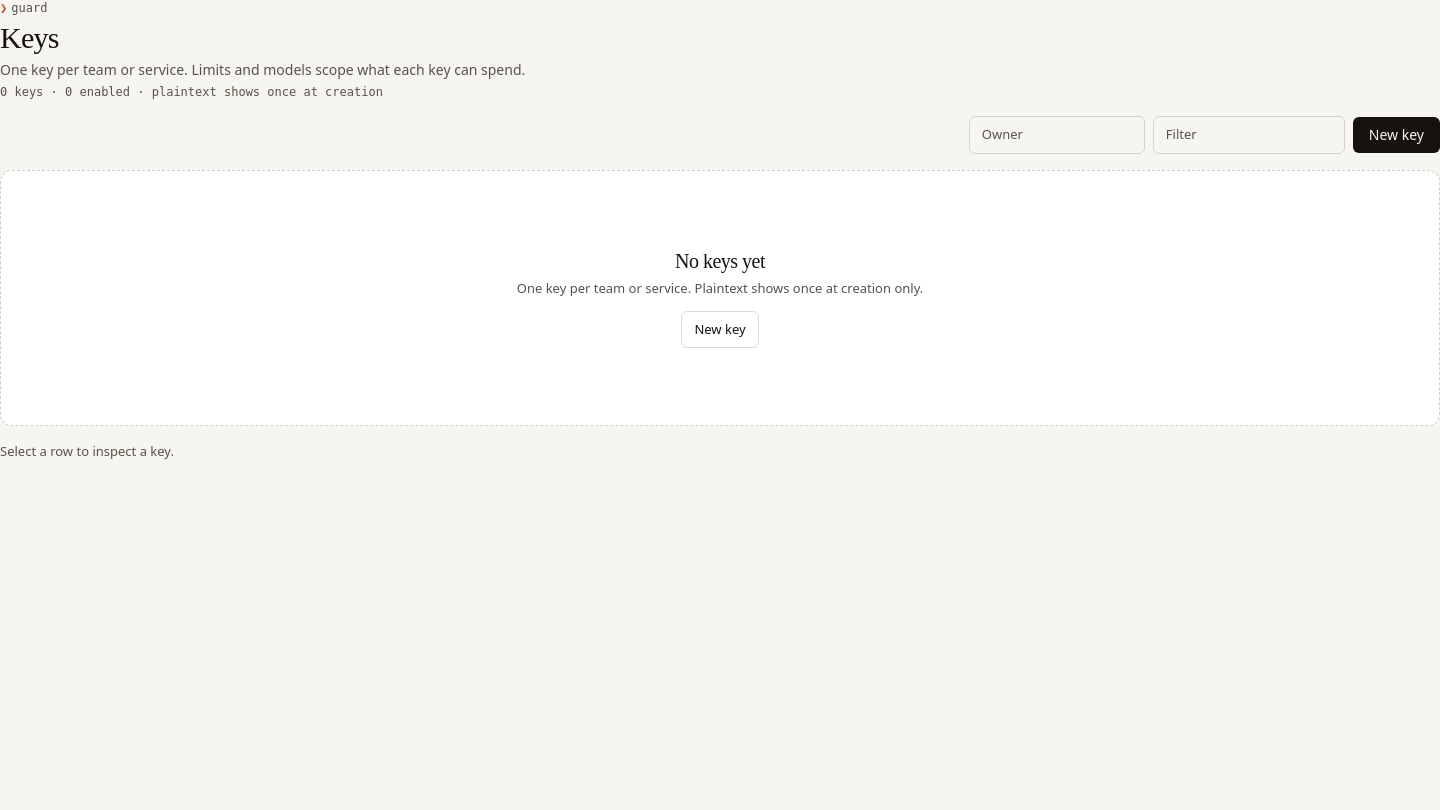
KeysPage › rejects a non-UUID owner account before submitting
The image size is (1440, 810).
Click the 1st button "New key".
click(1396, 135)  # box top-left (1353, 117), bottom-right (1439, 153)
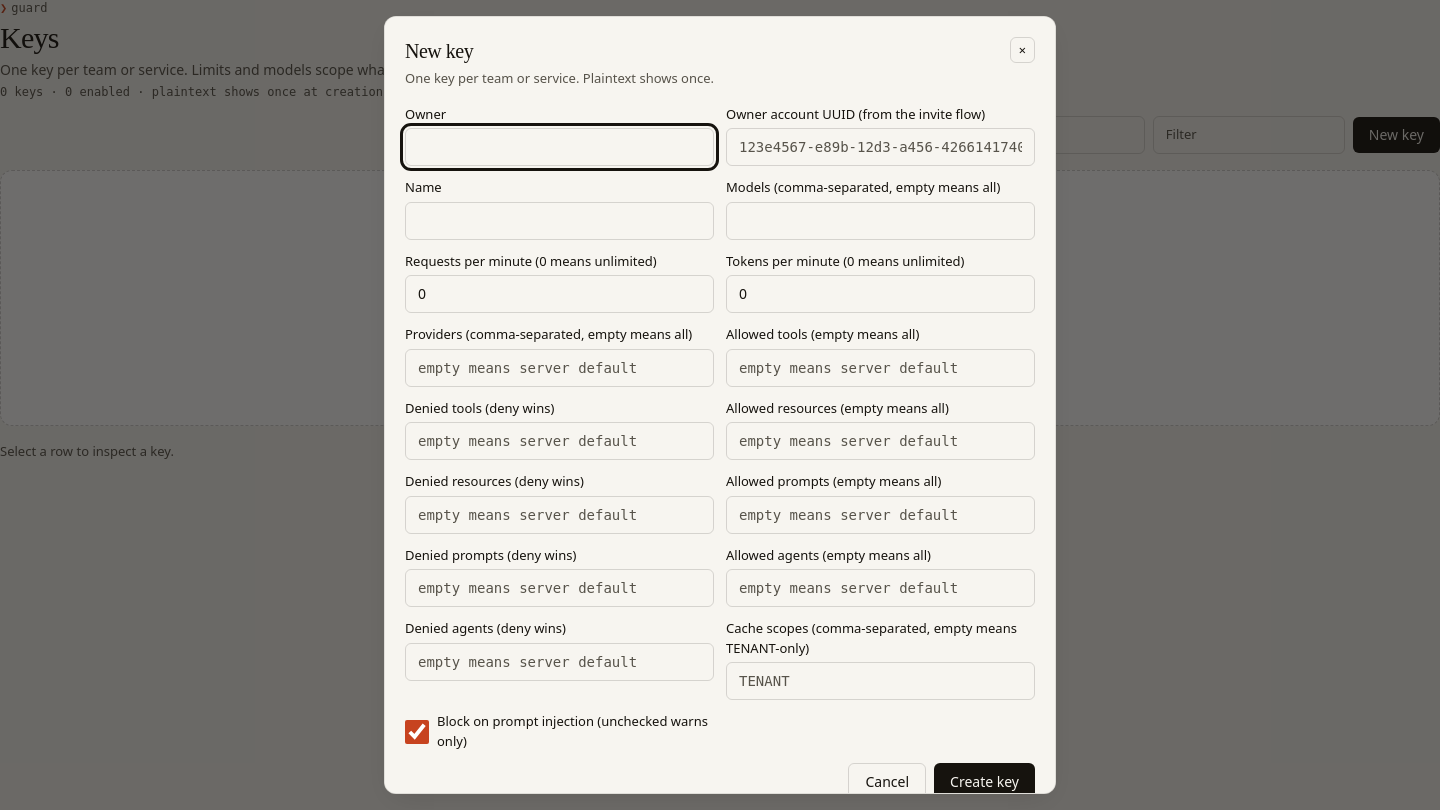
Type "tenant-corp" into the field labelled "Owner".
click(560, 147); type("tenant-corp")  # box top-left (405, 128), bottom-right (714, 166)
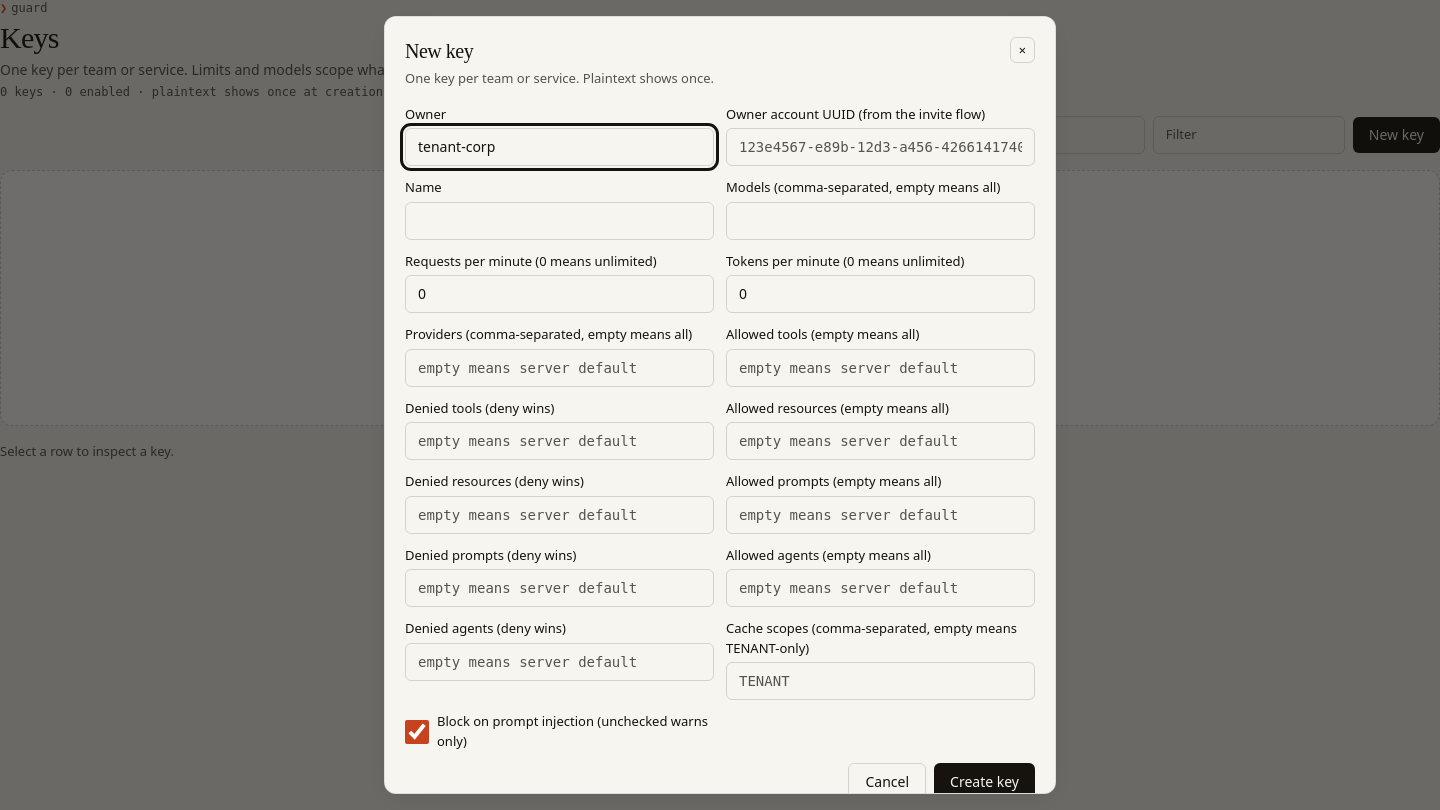
Type "not-a-uuid" into the field labelled "Owner account UUID (from the invite flow)".
click(880, 147); type("not-a-uuid")  # box top-left (726, 128), bottom-right (1035, 166)
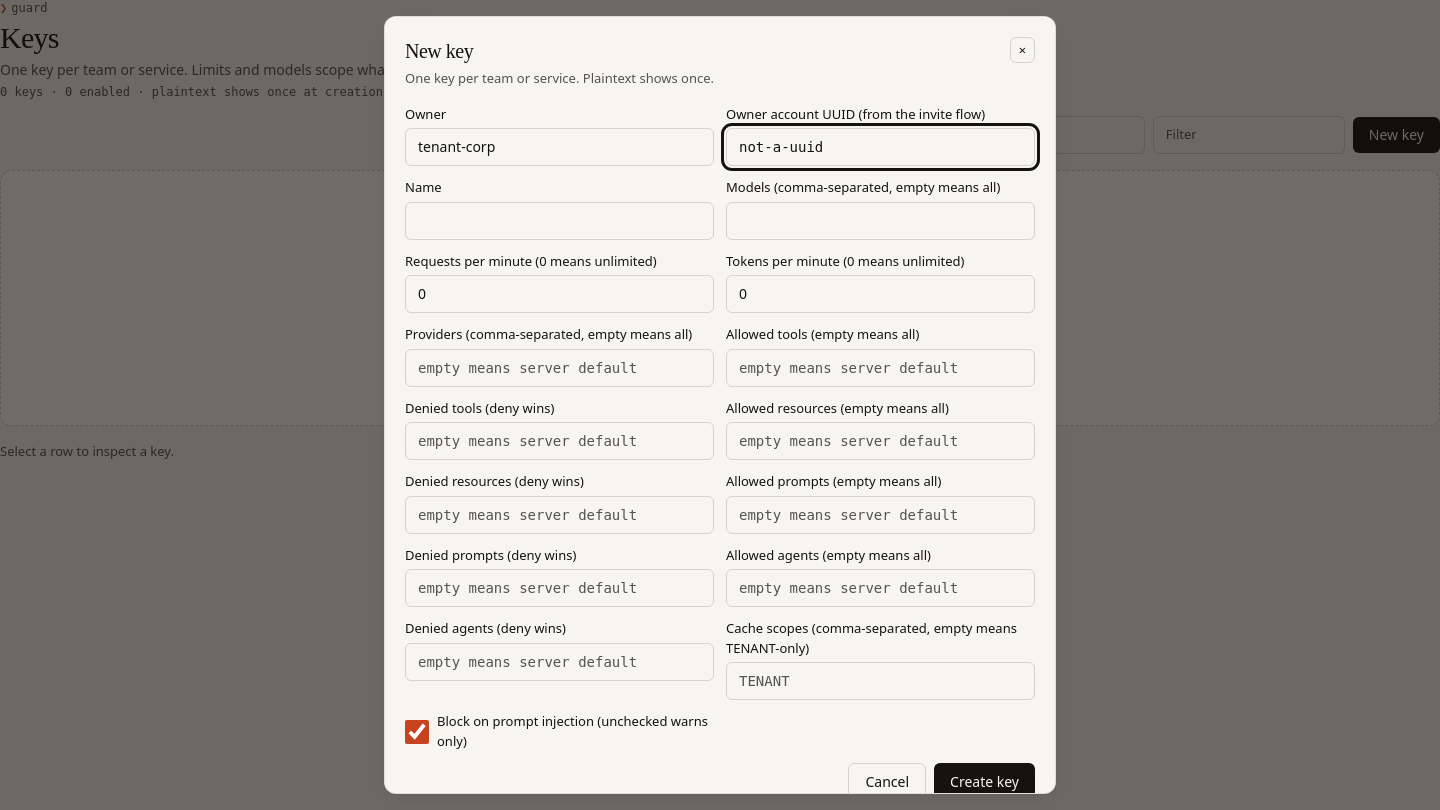
Type "bad-owner" into the field labelled "Name".
click(560, 220); type("bad-owner")  # box top-left (405, 202), bottom-right (714, 240)
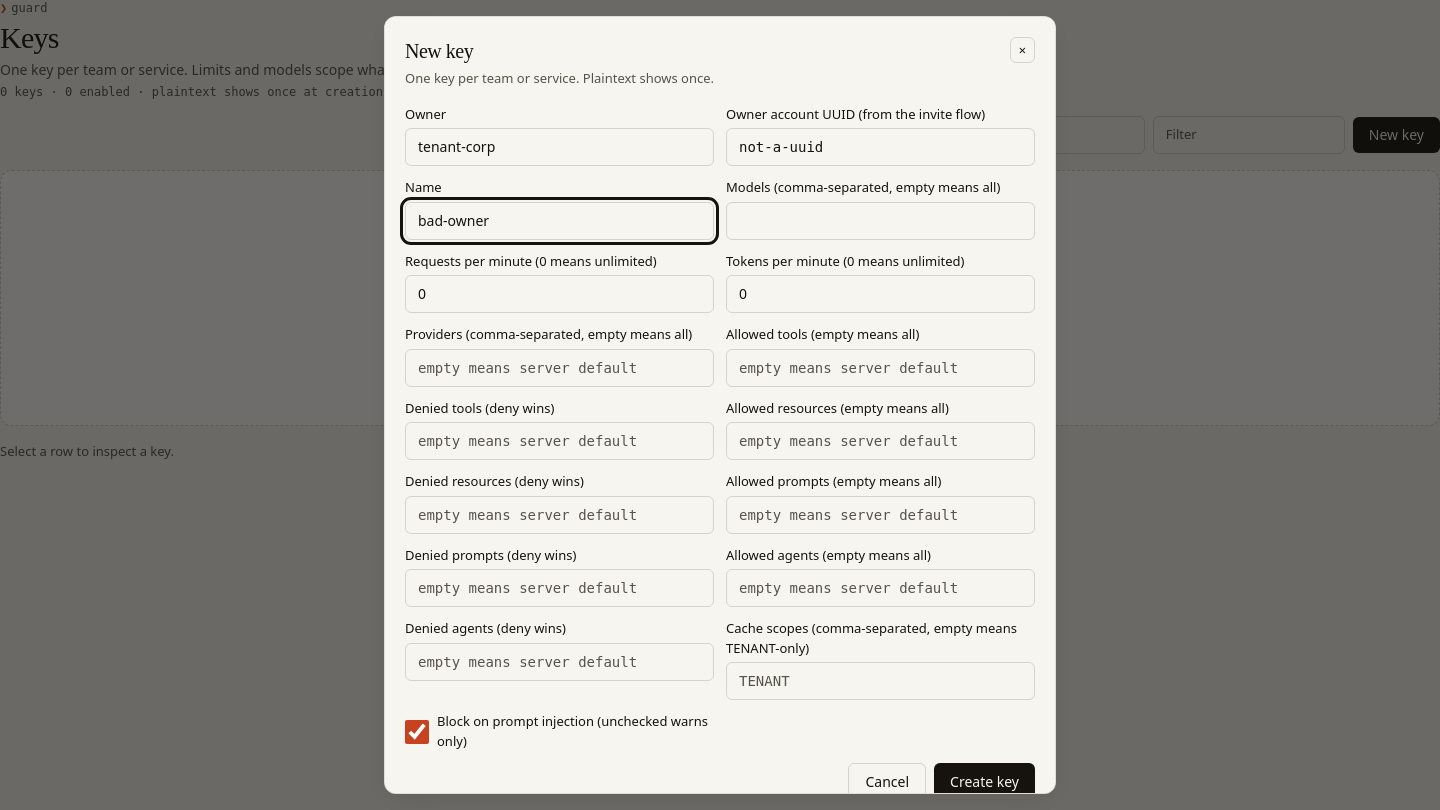
Click the button "Create key".
click(985, 782)  # box top-left (934, 763), bottom-right (1035, 801)
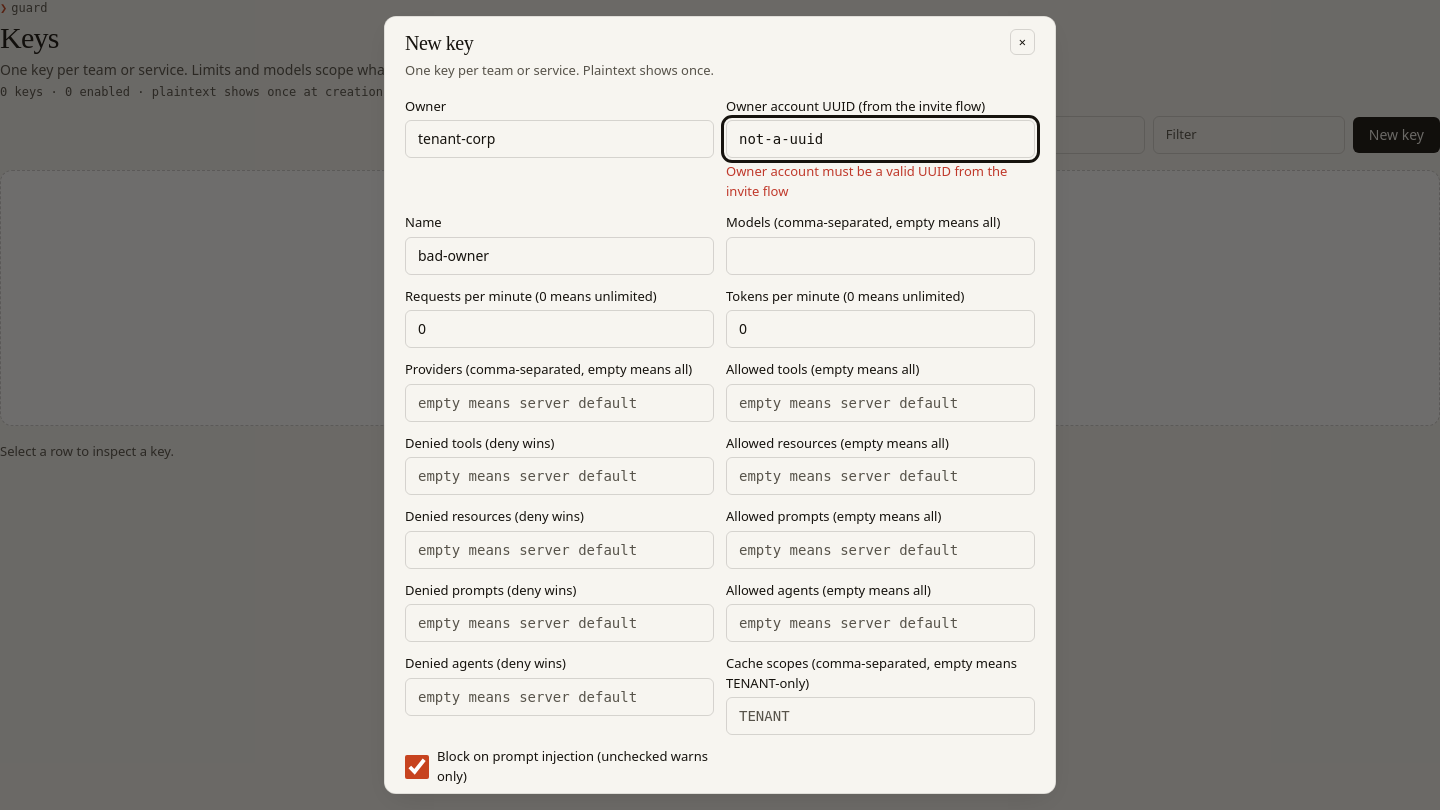
expect the text "Owner account must be a valid UUID from the invite flow" is shown: met, box top-left (726, 162), bottom-right (1035, 201)
